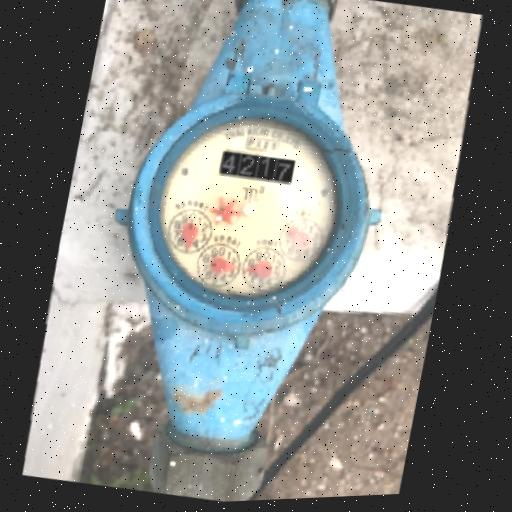1: (256, 155, 276, 181)
2: (237, 152, 259, 180)
4: (219, 149, 242, 177)
7: (273, 157, 296, 184)
border_water_meter_number: (218, 146, 296, 188)
